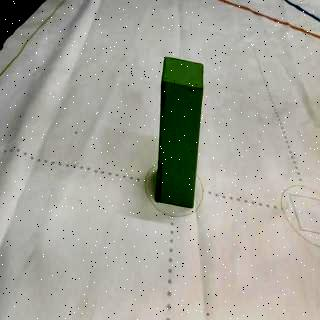greenbox: (158, 56, 202, 209)
